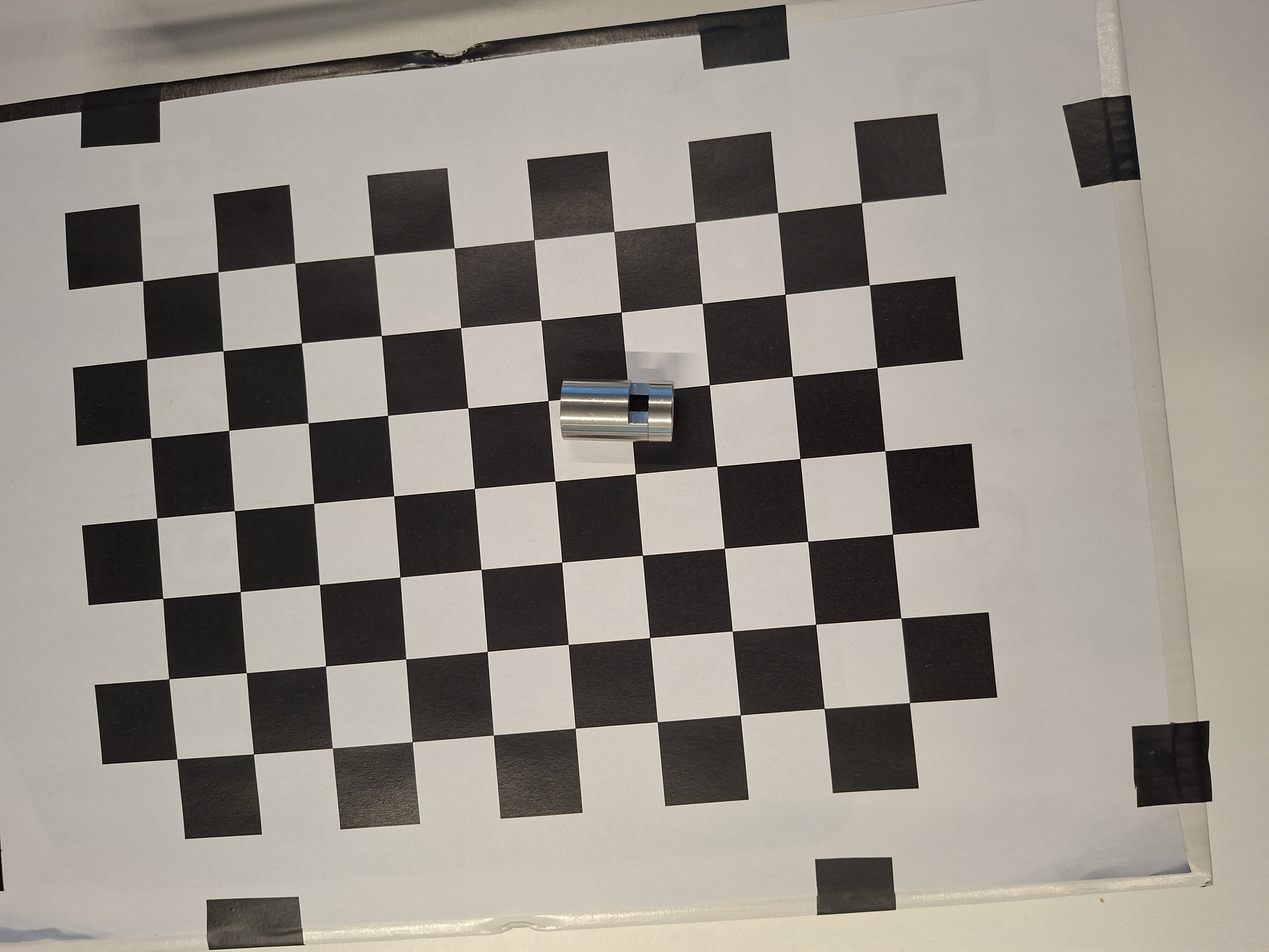barrel_nut: (554, 374, 686, 448)
